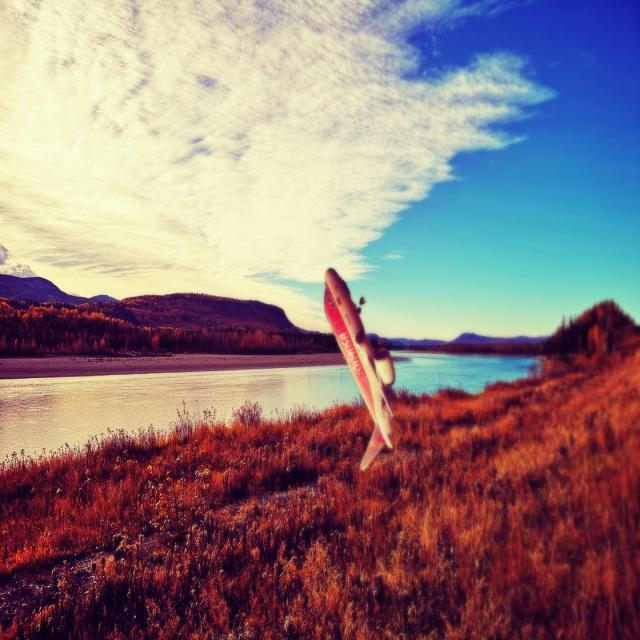airplane: (323, 266, 397, 471)
